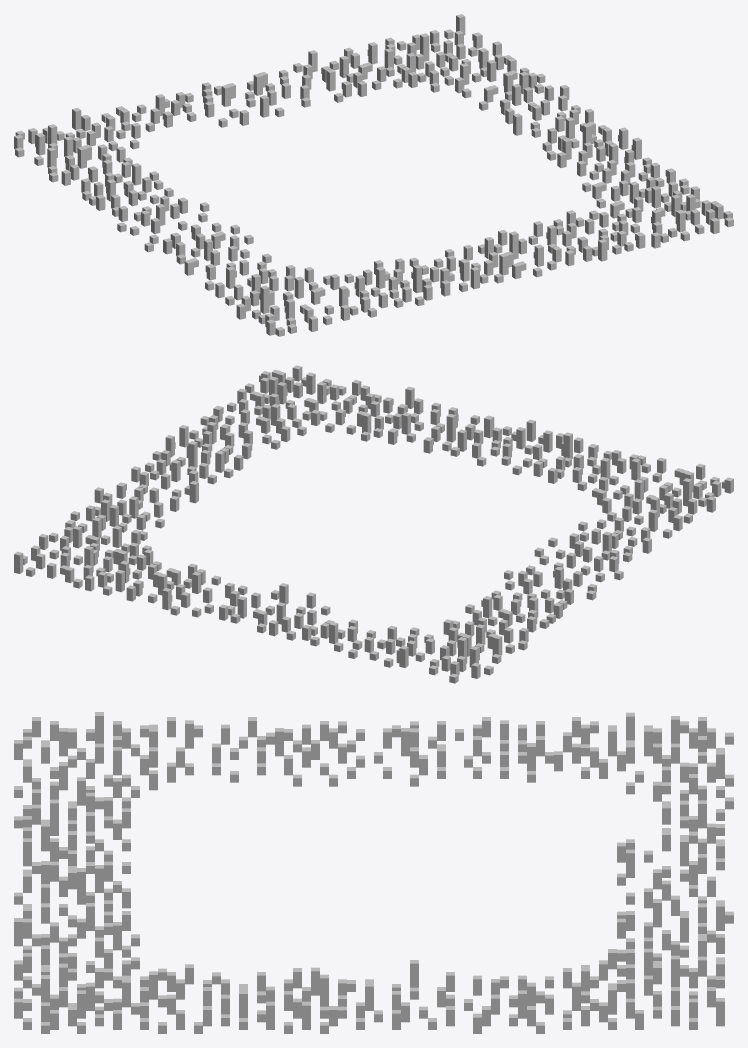
The model's file is snow_2_overtile.obj.
The picture shows the model from 3 angles, top to bottom: view 1: azimuth 30°, elevation 25°; view 2: azimuth 150°, elevation 25°; view 3: azimuth 270°, elevation 25°; orthographic projection. The views are drawn at different scales.
Size of the model in its own units: 8 by 0.4 by 8.
Materials: 1 (1 with a texture image).
